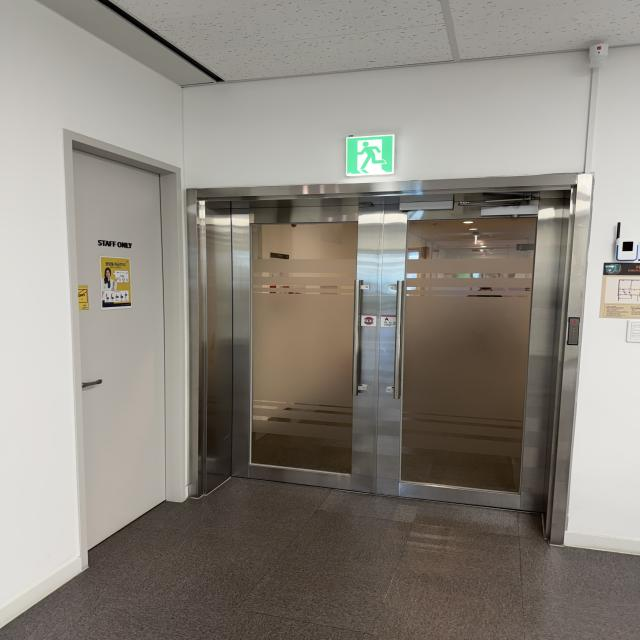rear_door: (191, 187, 574, 513)
